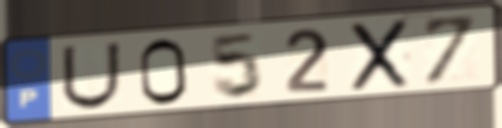0: (137, 36, 190, 107)
2: (283, 26, 332, 94)
5: (207, 30, 265, 101)
7: (421, 12, 482, 87)
U: (59, 40, 124, 112)
X: (348, 16, 412, 95)
